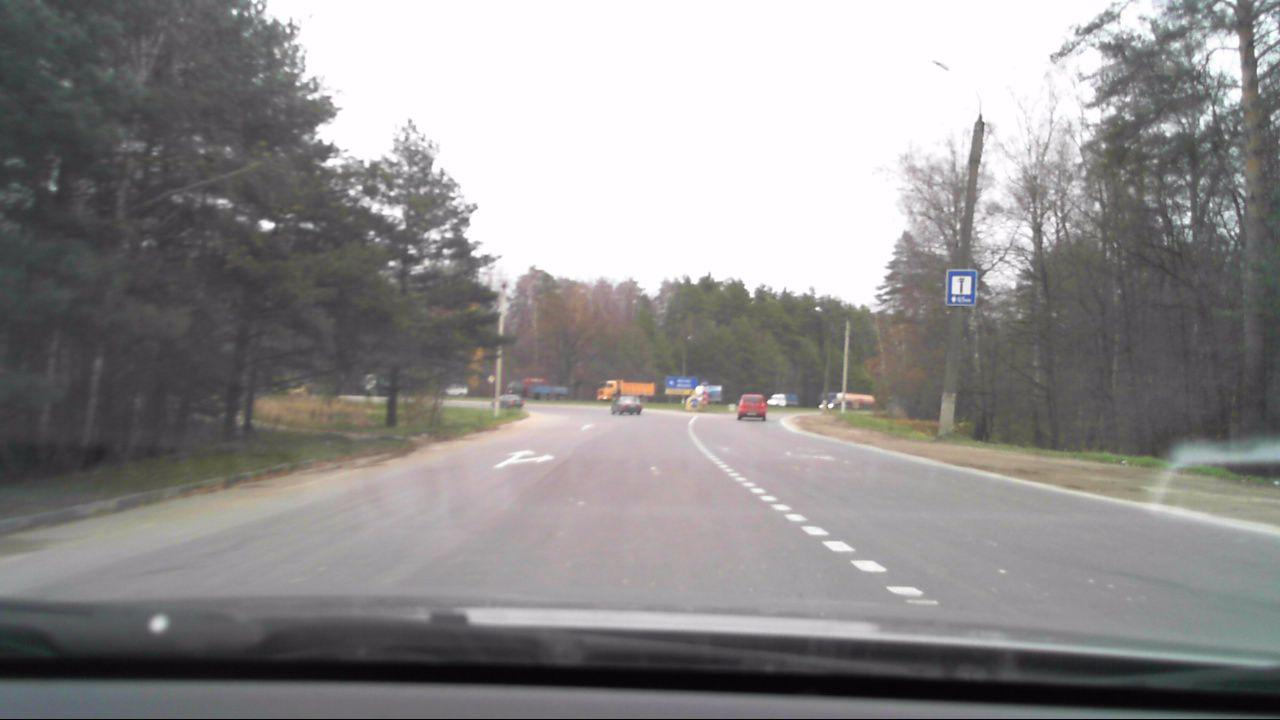7_4: (945, 268, 980, 307)
